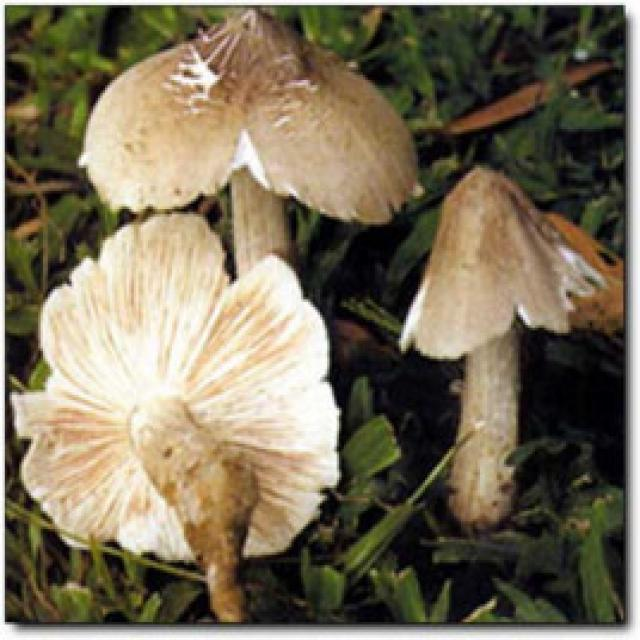Collybia albuminosa: (15, 217, 344, 618), (90, 10, 420, 272), (401, 168, 623, 519)
